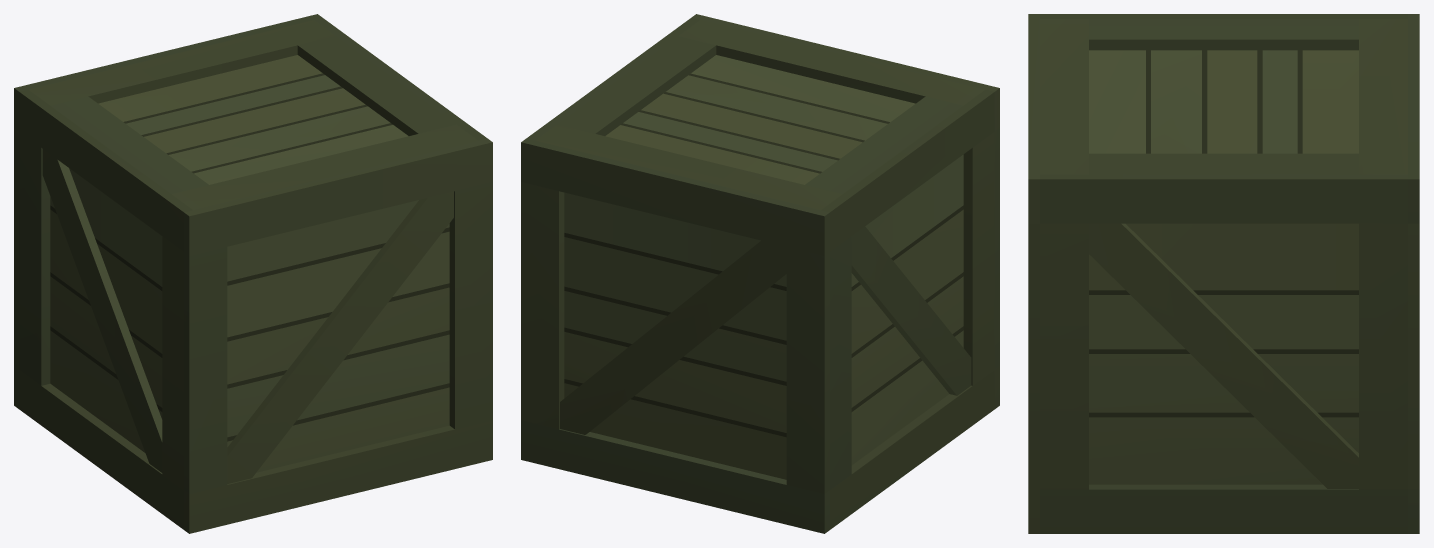
The model's file is crate.wood.military.glb.
3 views of the same model, side by side, from view 1: azimuth 30°, elevation 25°; view 2: azimuth 150°, elevation 25°; view 3: azimuth 270°, elevation 25° (orthographic). The views are drawn at different scales.
Visible parts, largest first — view 1: crate_wood_military; view 2: crate_wood_military; view 3: crate_wood_military.
Boxes of the visible parts, x1=… form: crate_wood_military: x1=14, y1=14, x2=492, y2=533; crate_wood_military: x1=521, y1=14, x2=999, y2=533; crate_wood_military: x1=1028, y1=14, x2=1419, y2=533.
Size of what is drawn, in the model's own units: 0.6 by 0.6 by 0.6.
